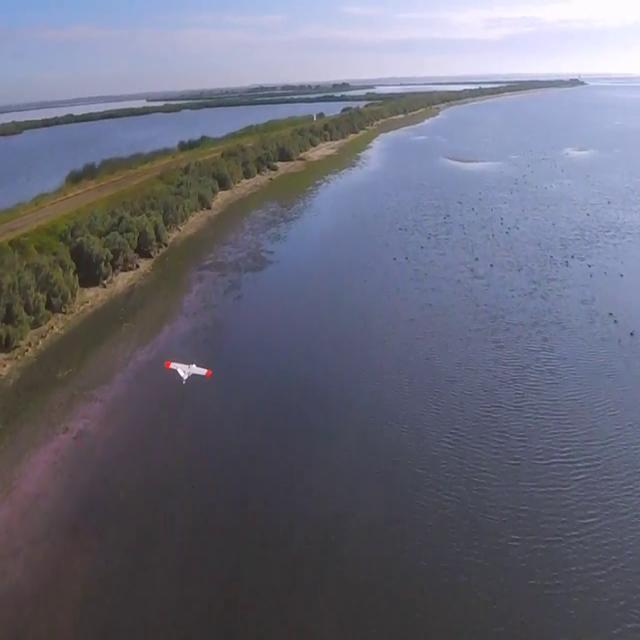iha: (163, 357, 213, 389)
